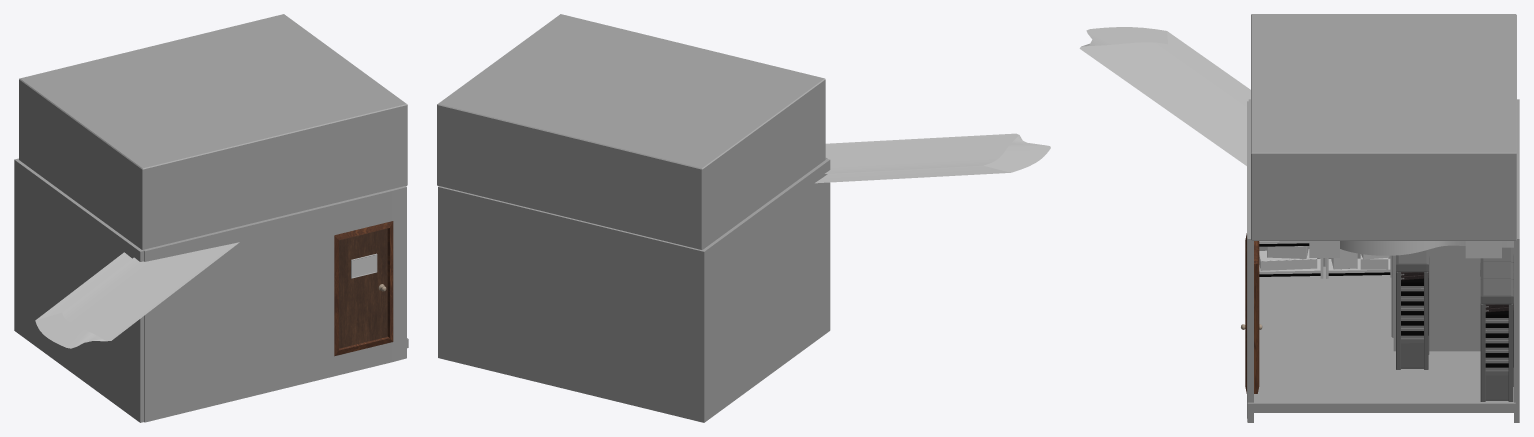
File: SERVER ROOM.fbx
3 renders of one model, left to right at view 1: azimuth 30°, elevation 25°; view 2: azimuth 150°, elevation 25°; view 3: azimuth 270°, elevation 25°, orthographic. The views are drawn at different scales.
Visible parts, largest first — view 1: floor1, side_wall3, side_wall4, tunnel_2, Doorbase, DoorFrame1, Sign; view 2: side_wall4, floor1, tunnel_2; view 3: floor1, floor, tunnel_2, inner_wall, Server_shelf_group, Server_shelf__mesh_combined_6, side_wall3, side_wall4, box (×3), tunnel_1, DoorFrame1, hvac (+3 smaller).
Part boxes in pixels (x1,y1,x2,y2): floor1: [19, 14, 407, 249]; side_wall3: [143, 186, 406, 422]; side_wall4: [14, 158, 144, 422]; tunnel_2: [35, 242, 239, 348]; Doorbase: [339, 228, 387, 348]; DoorFrame1: [334, 221, 393, 356]; Sign: [351, 253, 377, 278]; side_wall4: [438, 158, 830, 422]; floor1: [437, 14, 825, 249]; tunnel_2: [815, 133, 1050, 183]; floor1: [1251, 14, 1516, 240]; floor: [1247, 266, 1515, 412]; tunnel_2: [1079, 27, 1250, 165]; inner_wall: [1391, 245, 1513, 351]; Server_shelf_group: [1480, 279, 1513, 401]; Server_shelf__mesh_combined_6: [1396, 249, 1429, 369]; side_wall3: [1247, 101, 1253, 422]; side_wall4: [1248, 99, 1519, 422]; box (×3): [1259, 246, 1357, 270]; tunnel_1: [1340, 241, 1513, 255]; DoorFrame1: [1245, 233, 1259, 393]; hvac: [1309, 241, 1501, 258].
Size of the model in its own units: 138 by 79.22 by 116.
